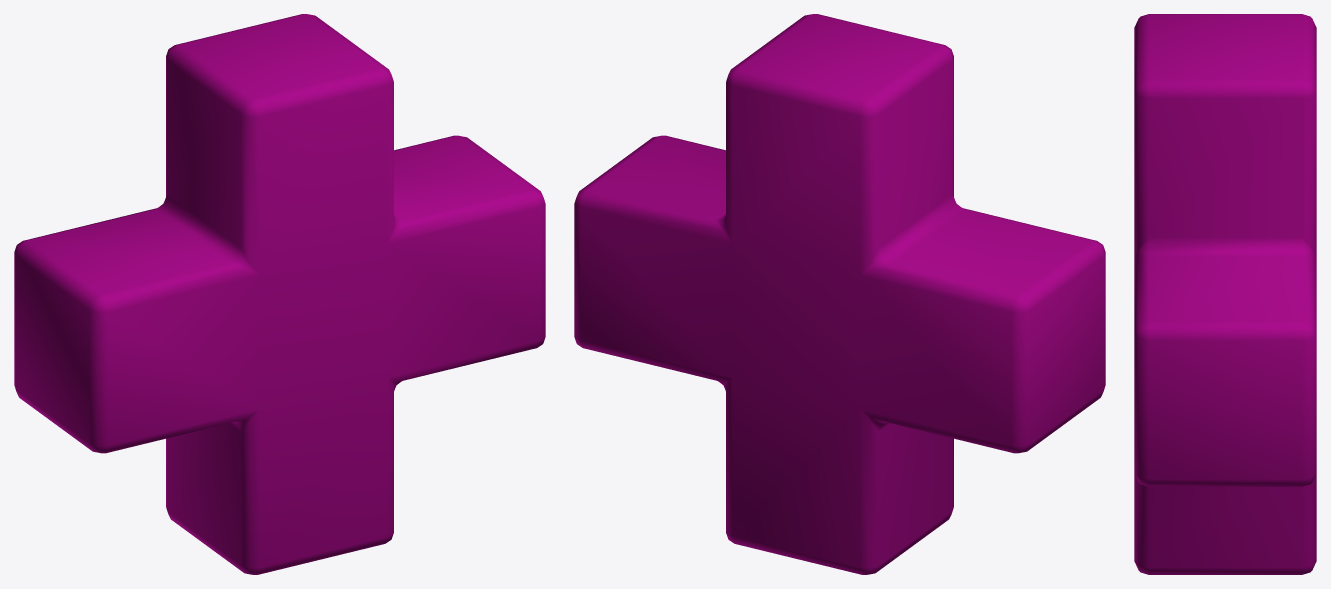
File: plus.glb
The picture shows the model from 3 angles, left to right: view 1: azimuth 30°, elevation 25°; view 2: azimuth 150°, elevation 25°; view 3: azimuth 270°, elevation 25°; orthographic projection. The views are drawn at different scales.
Visible parts, largest first — view 1: plus; view 2: plus; view 3: plus.
Part boxes in pixels (bbox=[...]): plus: bbox=[14, 14, 545, 574]; plus: bbox=[574, 14, 1105, 574]; plus: bbox=[1134, 14, 1316, 574].
Size of the model in its own units: 6 by 6 by 2.
